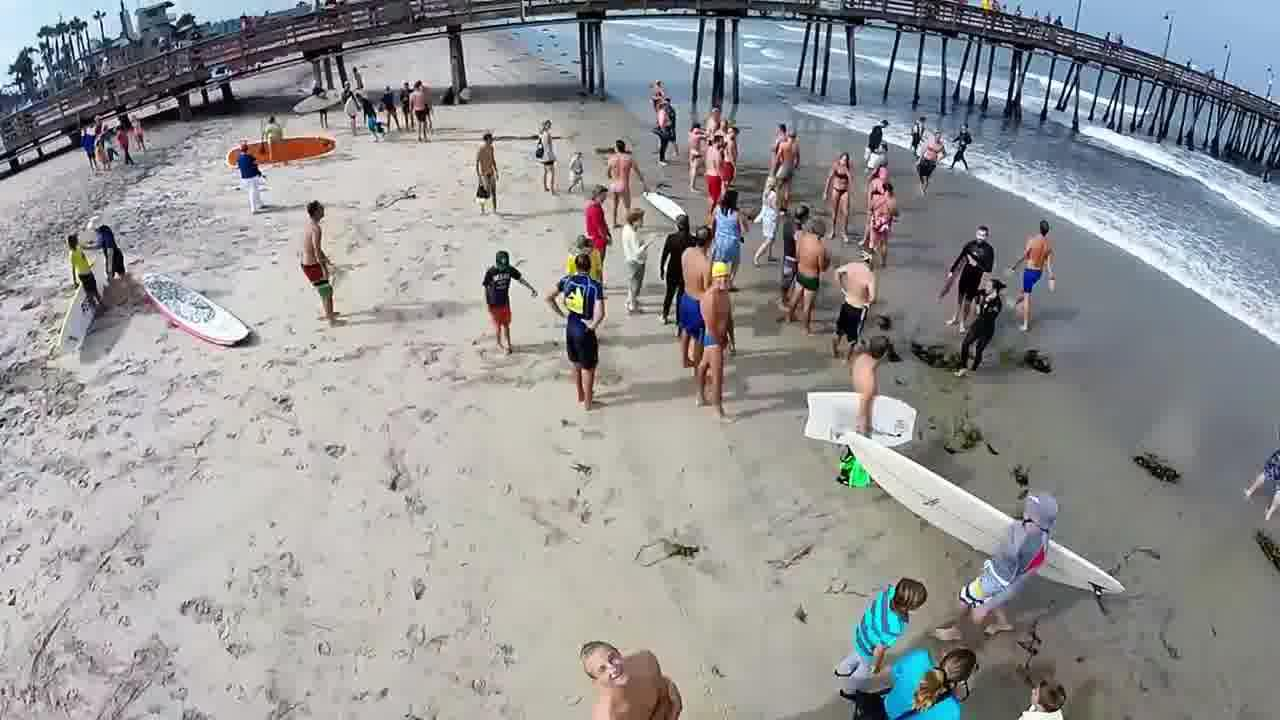swimmer: (954, 120, 976, 172)
